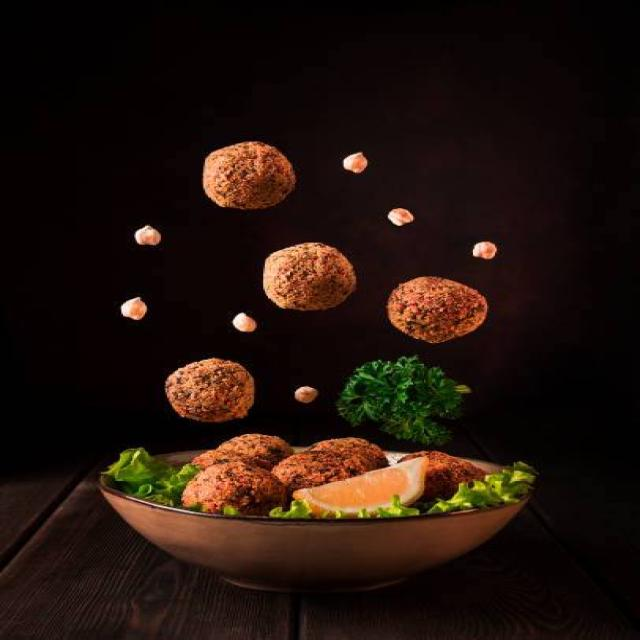taamia: (185, 438, 487, 516), (194, 128, 306, 222), (371, 271, 499, 349), (261, 239, 369, 313), (164, 356, 258, 429)
